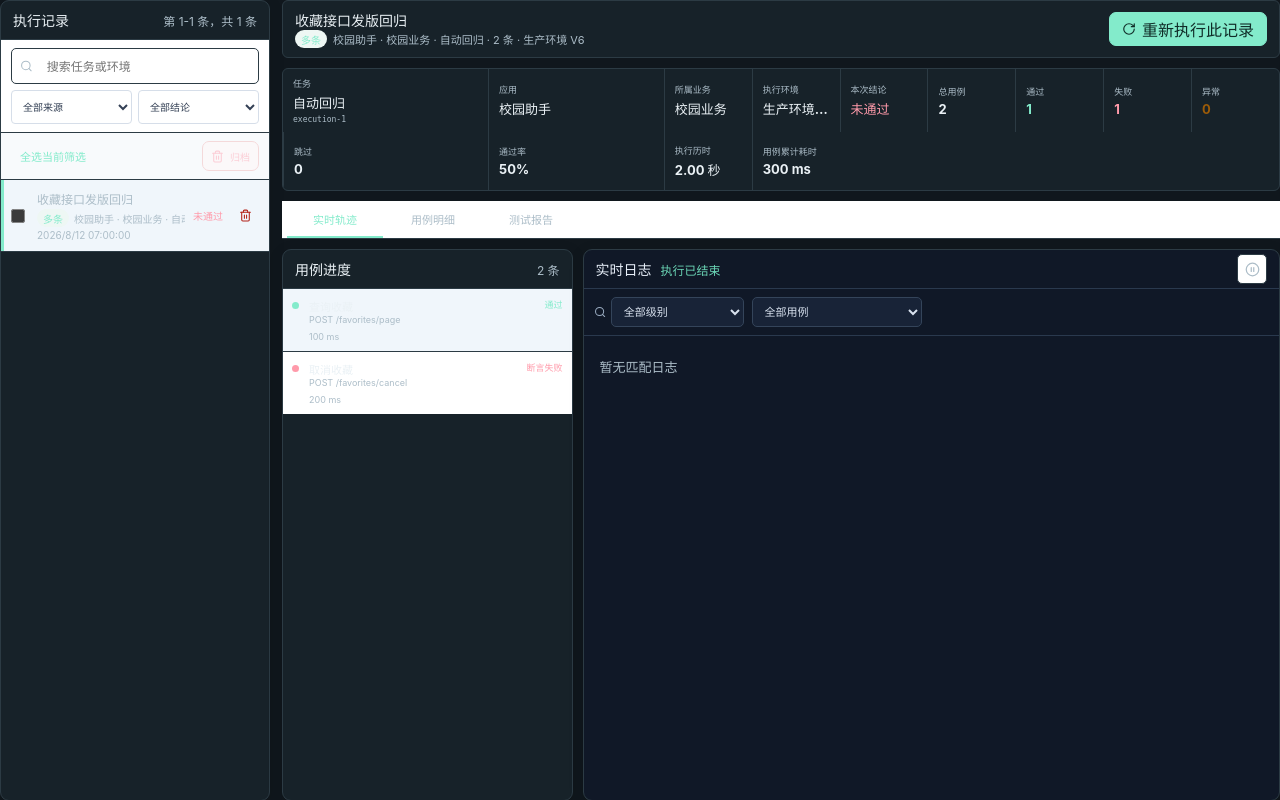
ExecutionConsole › opens a failed report on the problem cases and allows returning to all results
Click the button with test id "execution-tab-report". click: (531,220)
box: 483,201 -> 579,238
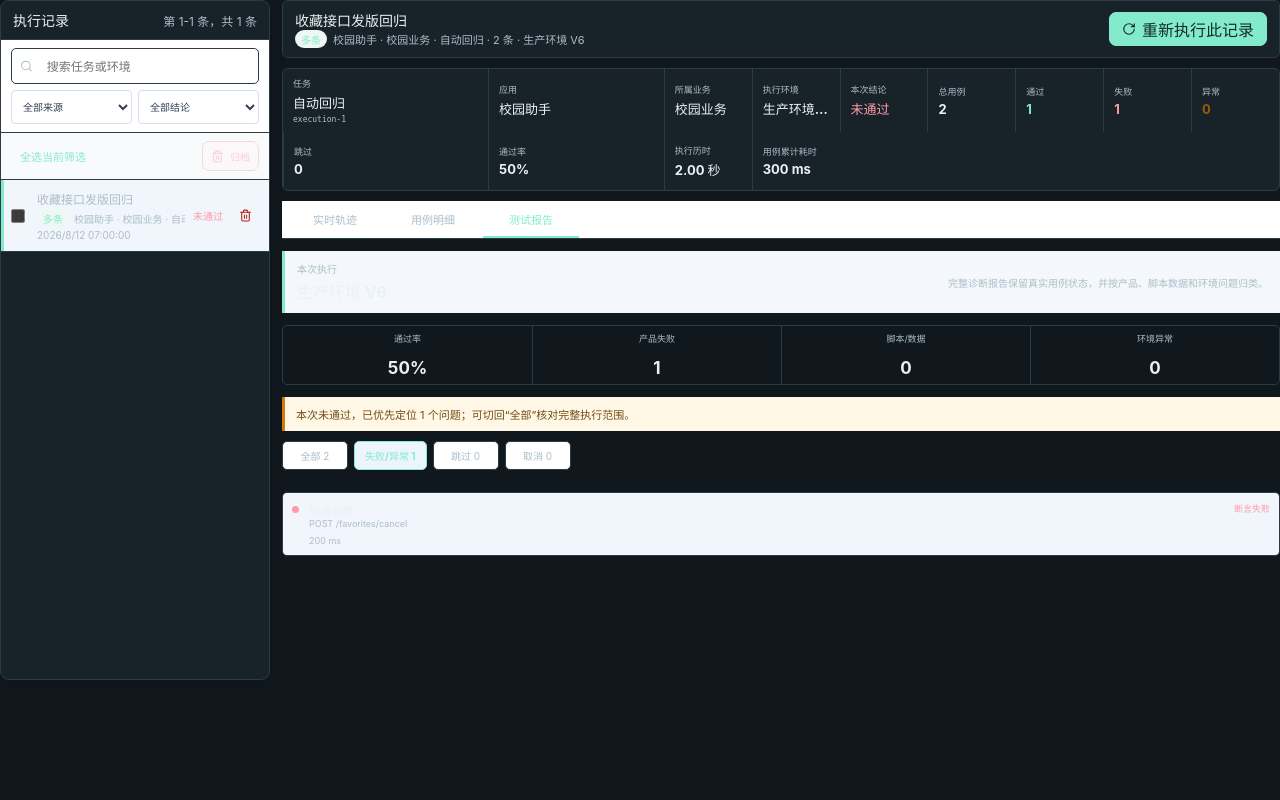
Expected: the button with test id "report-preview-case-row" shows "取消收藏", 283,493 -> 1279,555
Result: the text "已优先定位 1 个问题" is shown at 296,408 -> 635,422
Result: the number of buttons with test id "report-preview-case-row" is 1 at 283,493 -> 1279,555
Click the button with test id "execution-report-filter-skipped". click: (466,456)
box: 433,441 -> 499,470
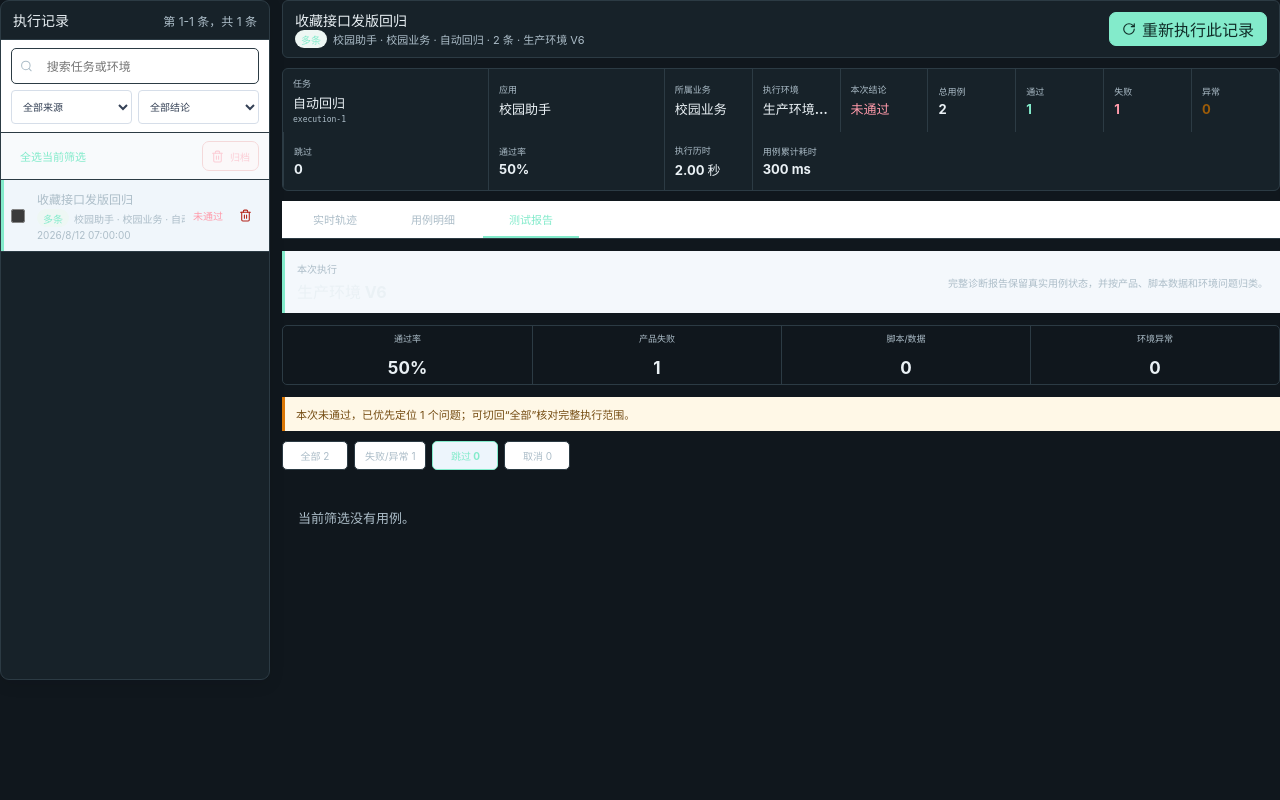
Result: the text "当前筛选没有用例" is shown at 298,510 -> 415,526
Click the button with test id "execution-report-filter-cancelled". click: (538,456)
box: 504,441 -> 570,470
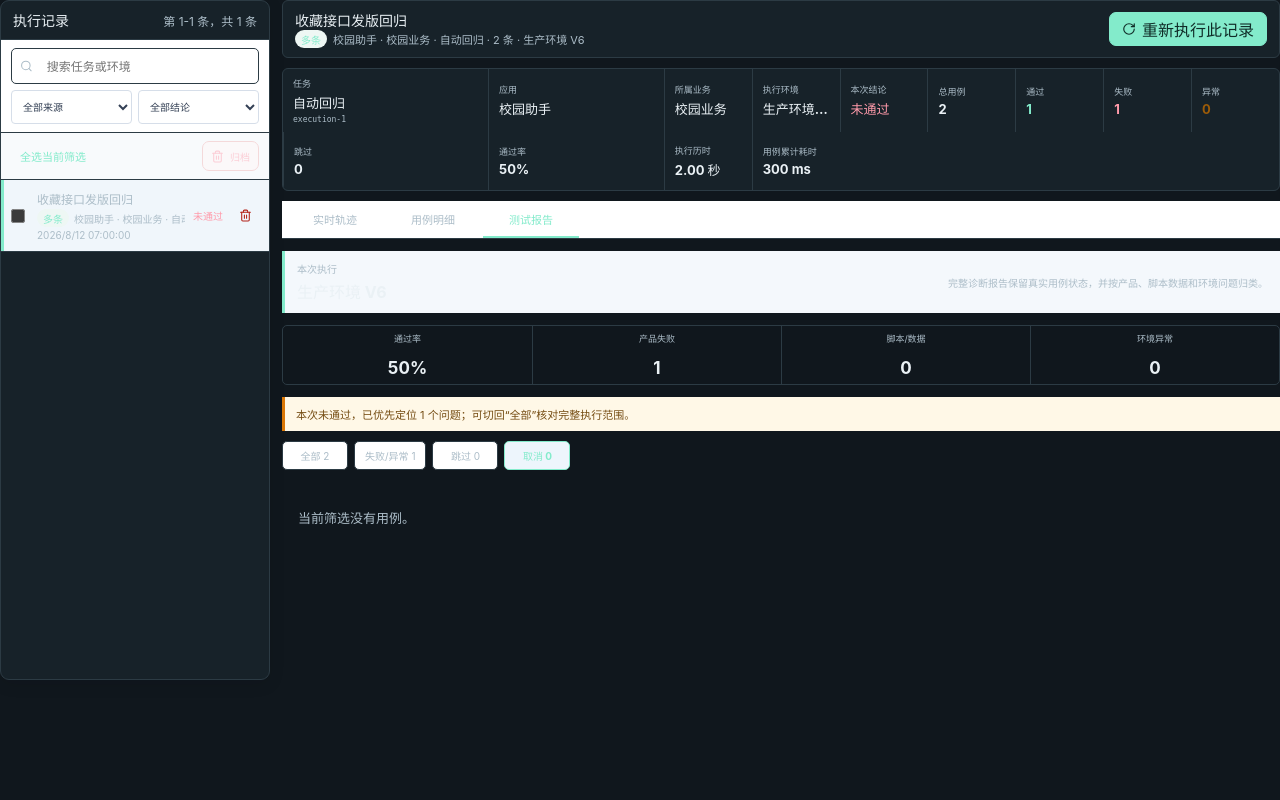
Result: the text "当前筛选没有用例" is shown at 298,510 -> 415,526
Click the button with test id "execution-report-filter-all". click: (315,456)
box: 282,441 -> 348,470
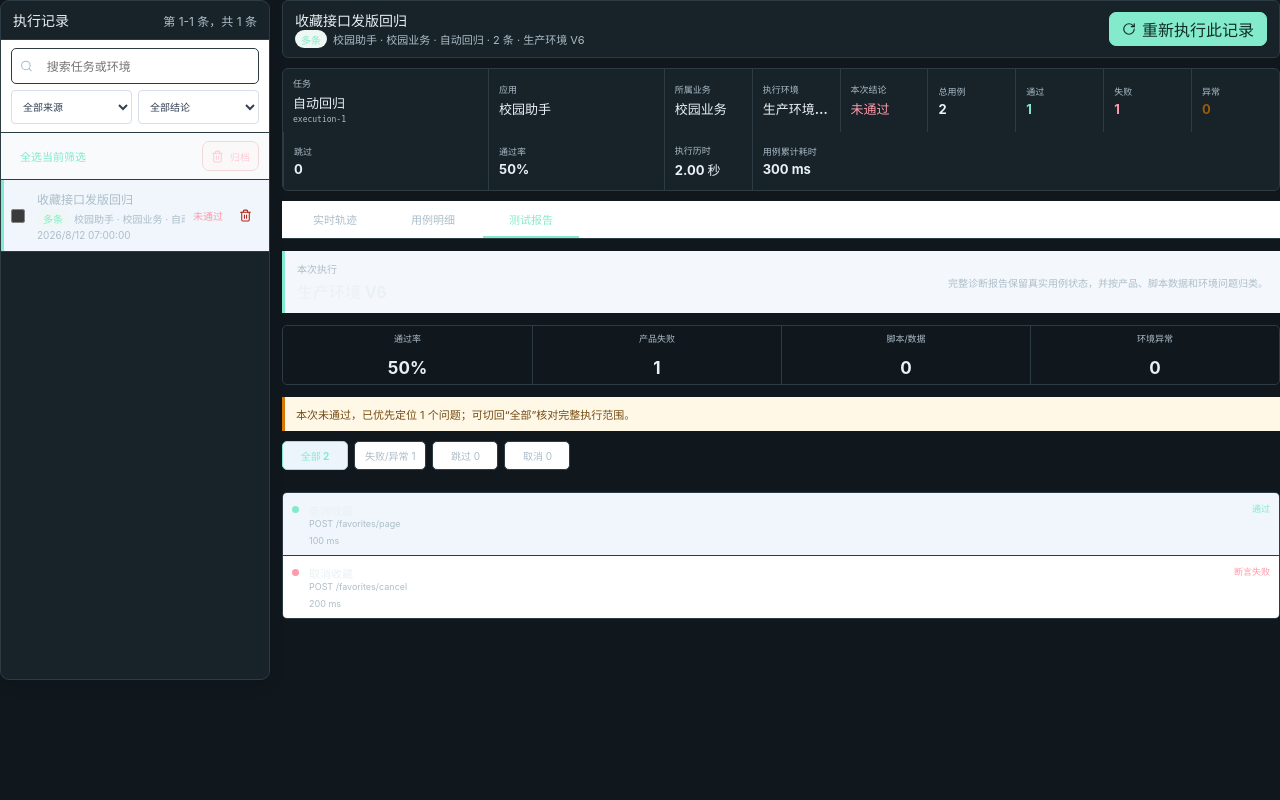
Result: the number of buttons with test id "report-preview-case-row" is 2 at 283,493 -> 1279,556; 283,556 -> 1279,618
